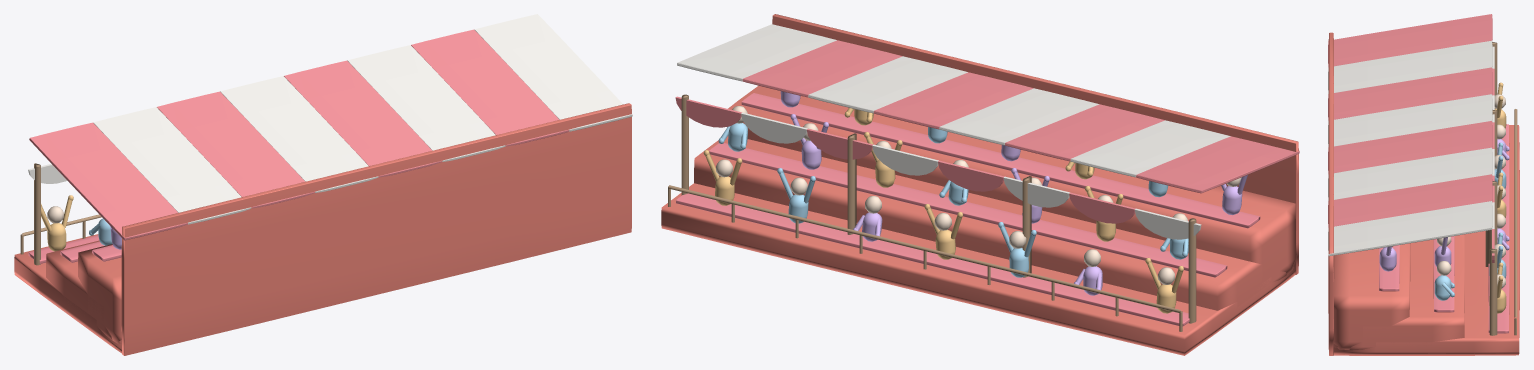
File: MechaMarathonStand.glb
3 views of the same model, side by side, from view 1: azimuth 30°, elevation 25°; view 2: azimuth 150°, elevation 25°; view 3: azimuth 270°, elevation 25° (orthographic). The views are drawn at different scales.
Parts seen in each view (by area): view 1: Frame, AwningB, AwningA, Seats, Rail, FansA; view 2: Frame, AwningA, AwningB, Seats, Rail, FansA, FansB, FansC, Heads; view 3: Frame, AwningB, AwningA, Seats, Rail, FansC, FansB, Heads, FansA.
Part boxes in pixels (bbox=[...]): Frame: bbox=[14, 103, 631, 355]; AwningB: bbox=[28, 14, 632, 224]; AwningA: bbox=[29, 29, 568, 240]; Seats: bbox=[28, 235, 121, 263]; Rail: bbox=[20, 163, 101, 265]; FansA: bbox=[41, 195, 73, 251]; Frame: bbox=[661, 14, 1298, 355]; AwningA: bbox=[675, 40, 1299, 223]; AwningB: bbox=[677, 24, 1230, 239]; Seats: bbox=[676, 93, 1260, 326]; Rail: bbox=[668, 94, 1196, 331]; FansA: bbox=[703, 108, 1183, 313]; FansB: bbox=[718, 123, 1188, 277]; FansC: bbox=[780, 91, 1247, 295]; Heads: bbox=[716, 106, 1241, 284]; Frame: bbox=[1328, 32, 1519, 355]; AwningB: bbox=[1328, 40, 1494, 256]; AwningA: bbox=[1328, 14, 1494, 263]; Seats: bbox=[1378, 124, 1509, 333]; Rail: bbox=[1485, 42, 1517, 335]; FansC: bbox=[1379, 139, 1509, 271]; FansB: bbox=[1434, 142, 1506, 300]; Heads: bbox=[1392, 94, 1505, 288]; FansA: bbox=[1489, 82, 1506, 313].
Size of the model in its own units: 24.02 by 6.76 by 9.11.
